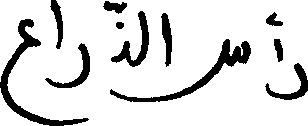X: (173, 34, 249, 103), (0, 14, 38, 125), (62, 16, 88, 125), (113, 0, 128, 105), (283, 58, 307, 104), (53, 0, 60, 125), (162, 8, 171, 105), (139, 6, 146, 106), (275, 8, 281, 103)
